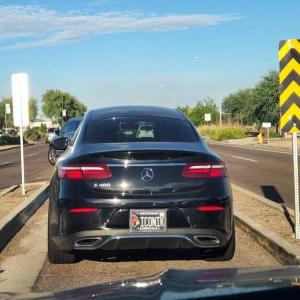Plate: (128, 208, 167, 233)
